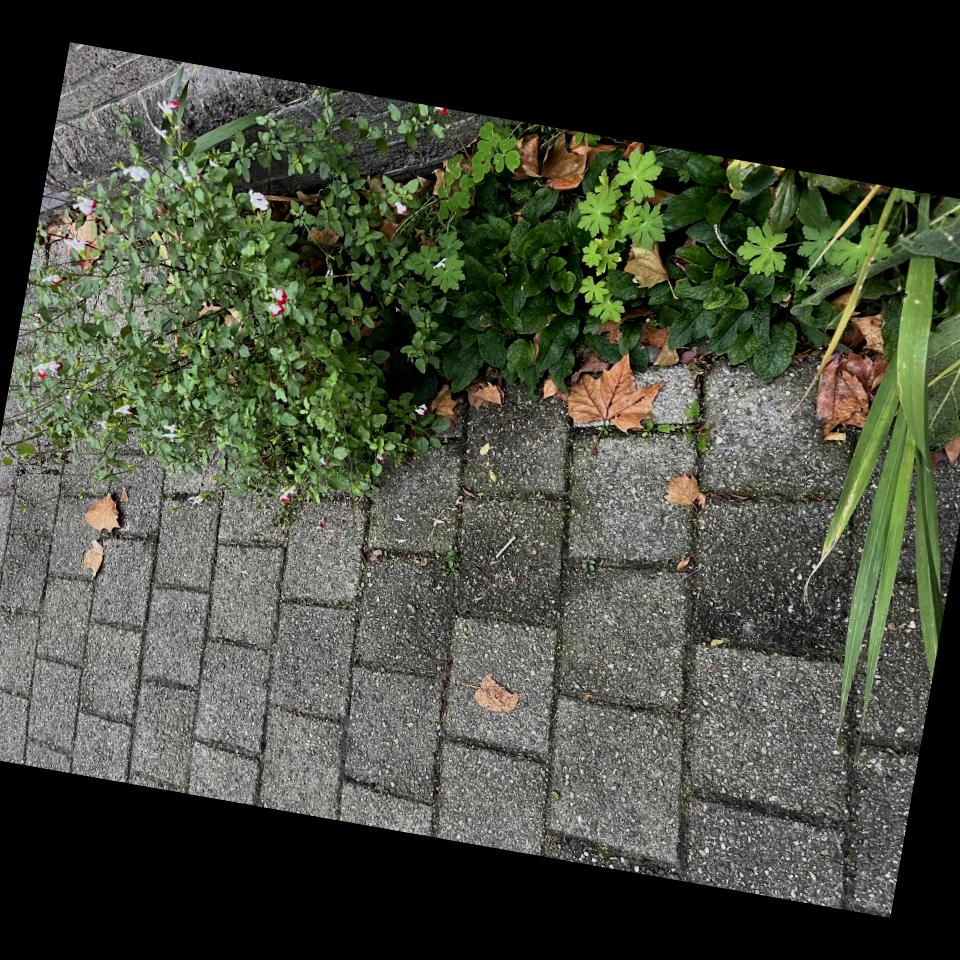weed: (643, 399, 712, 453)
